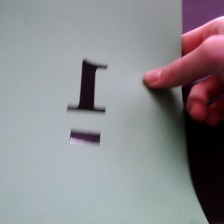green1: (63, 50, 119, 154)
